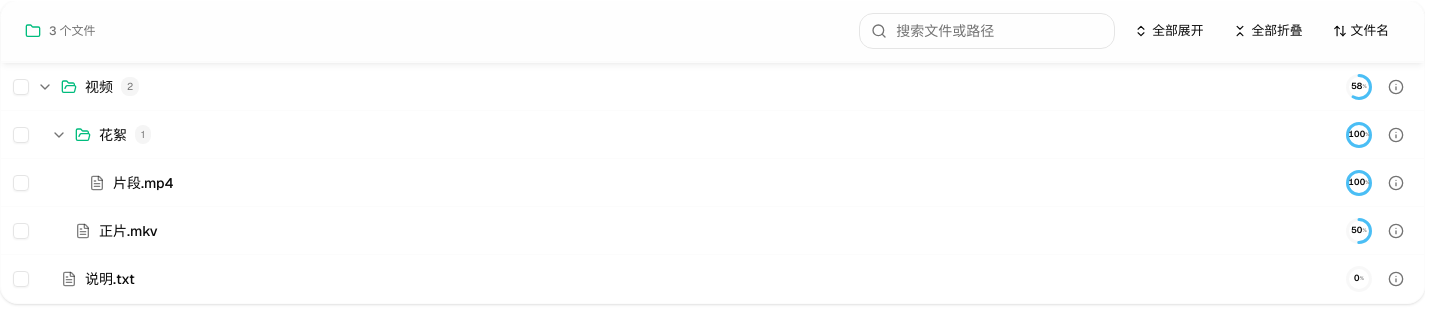
Scenario: TorrentFileTree › 搜索后仍可折叠和重新展开匹配文件夹
This screenshot has width=1440, height=322.
Step 1. Type "片段" into the field with placeholder "搜索文件或路径" → coordinates (987, 31), box [859,13,1115,49]
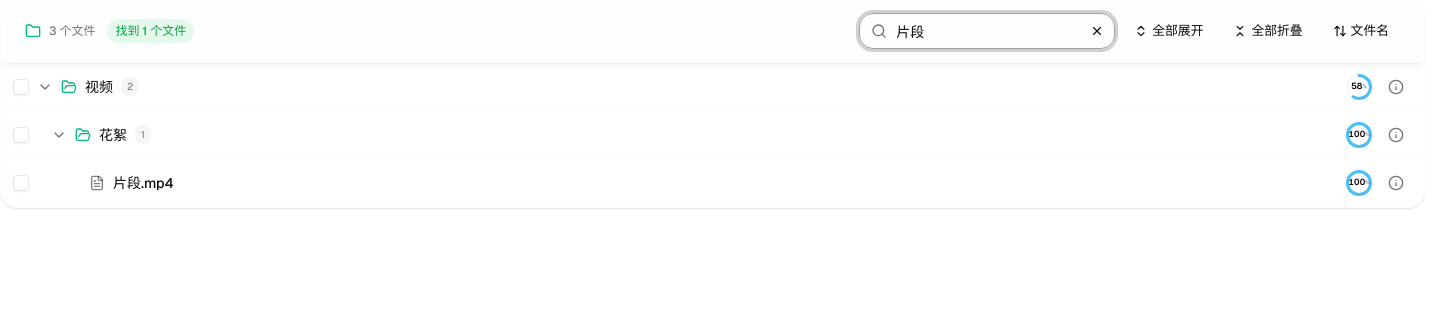
Expected: the text "片段.mp4" is shown, [113,173,174,193]
Step 2. Click the text "花絮" → coordinates (113, 134), box [99,124,127,144]
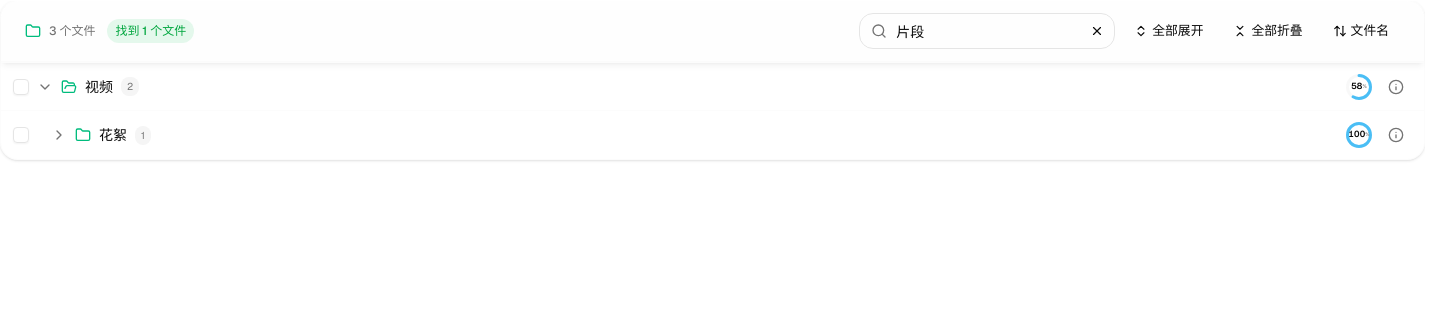
Expected: the button "片段.mp4" is gone
Step 3. Click the text "花絮" → coordinates (113, 135), box [99,125,127,145]
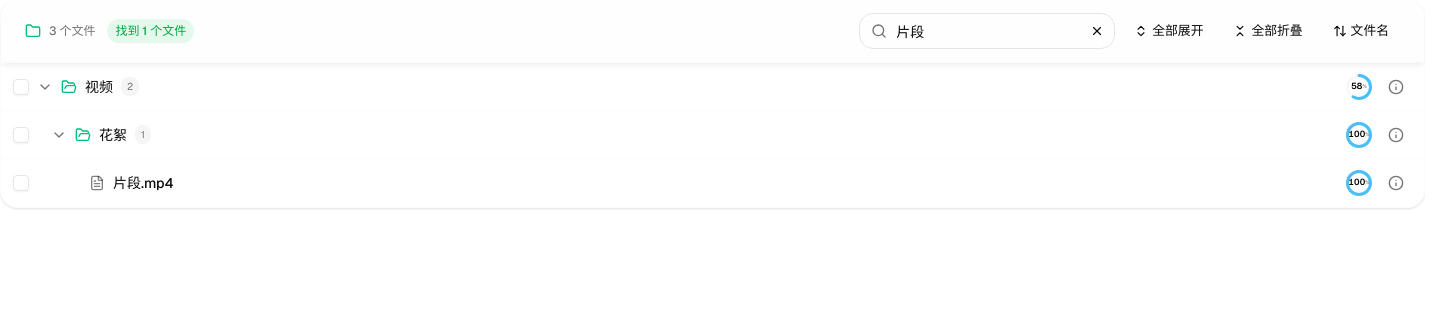
Expected: the text "片段.mp4" is shown, [113,173,174,193]
